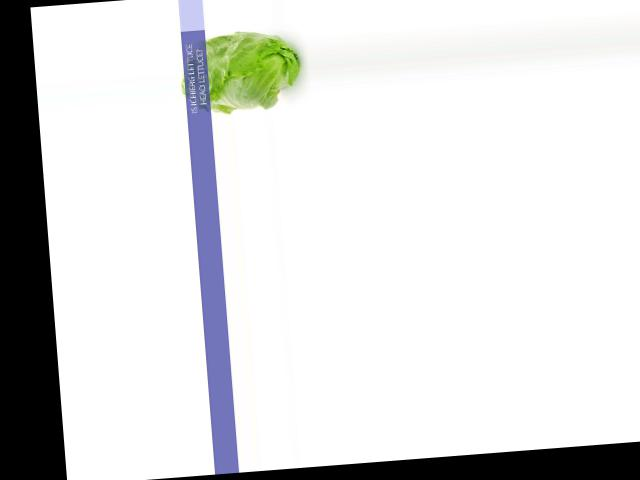lettuce: (177, 30, 308, 117)
